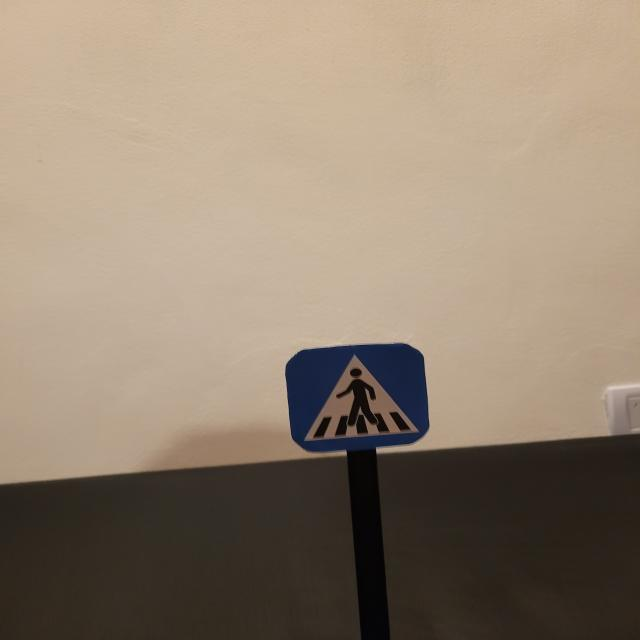crosswalk: (284, 342, 428, 456)
